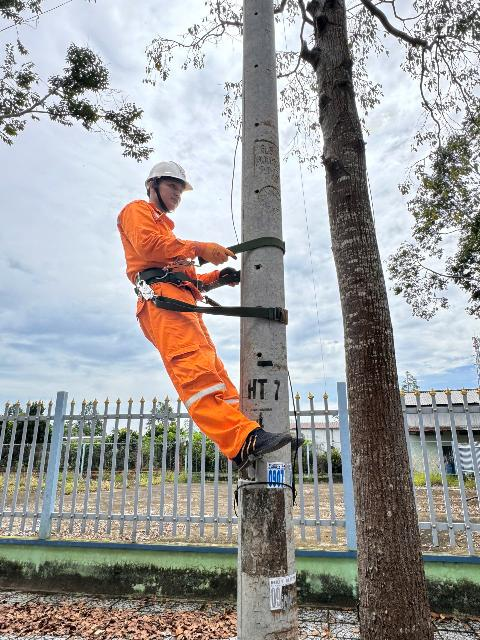gloves: (186, 228, 235, 271)
harness: (118, 258, 256, 313)
helmet: (140, 156, 199, 194)
shoes: (228, 418, 298, 470)
